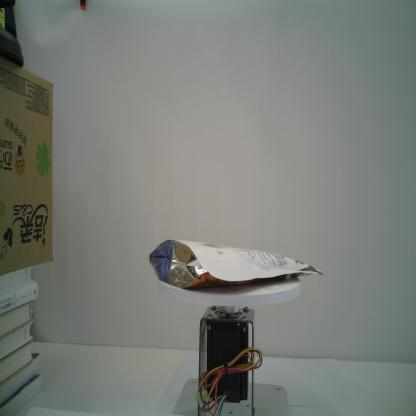Dried Fruit: (149, 238, 325, 289)
